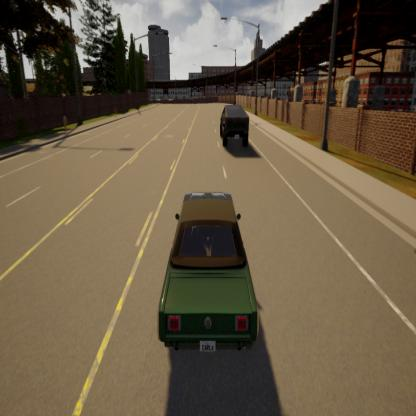Cars: (155, 185, 271, 362), (213, 98, 256, 155)
